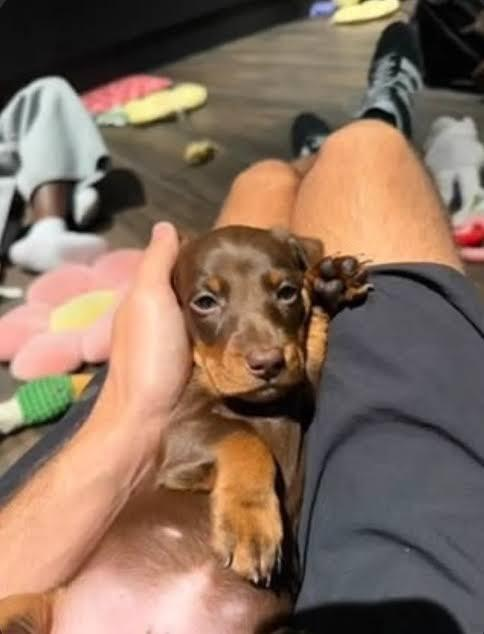puppy-dog: (0, 226, 375, 634)
